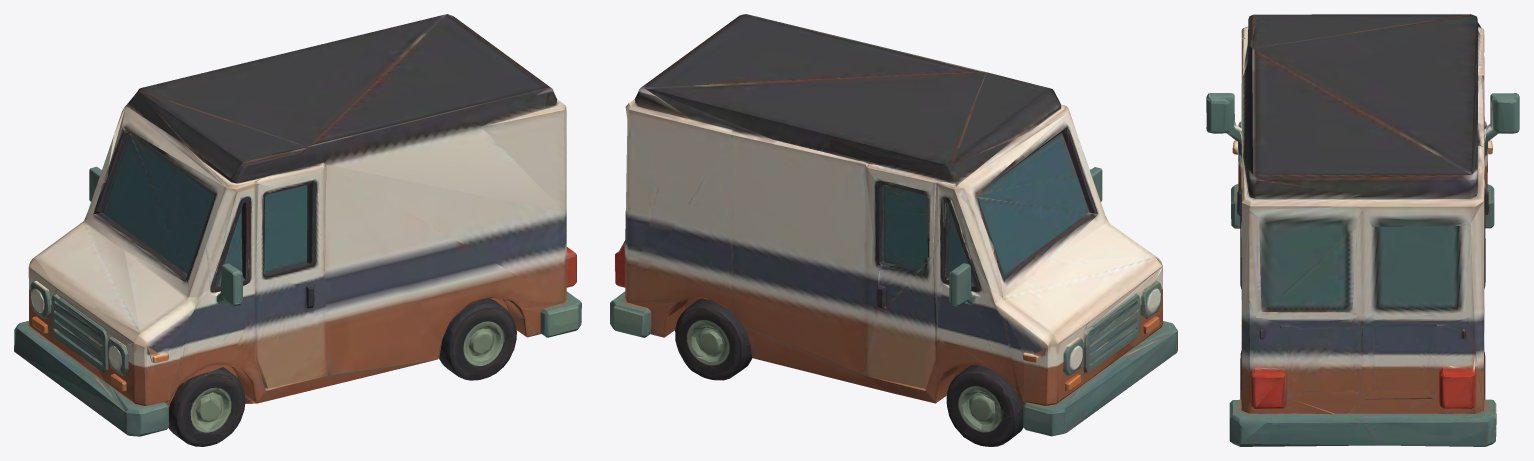
Rendered from van.glb.
The picture shows the model from 3 angles, left to right: view 1: azimuth 30°, elevation 25°; view 2: azimuth 150°, elevation 25°; view 3: azimuth 270°, elevation 25°; orthographic projection. The views are drawn at different scales.
Size of the model in its own units: 1.9 by 1.08 by 1.05.
Materials: 1 (1 with a texture image).
